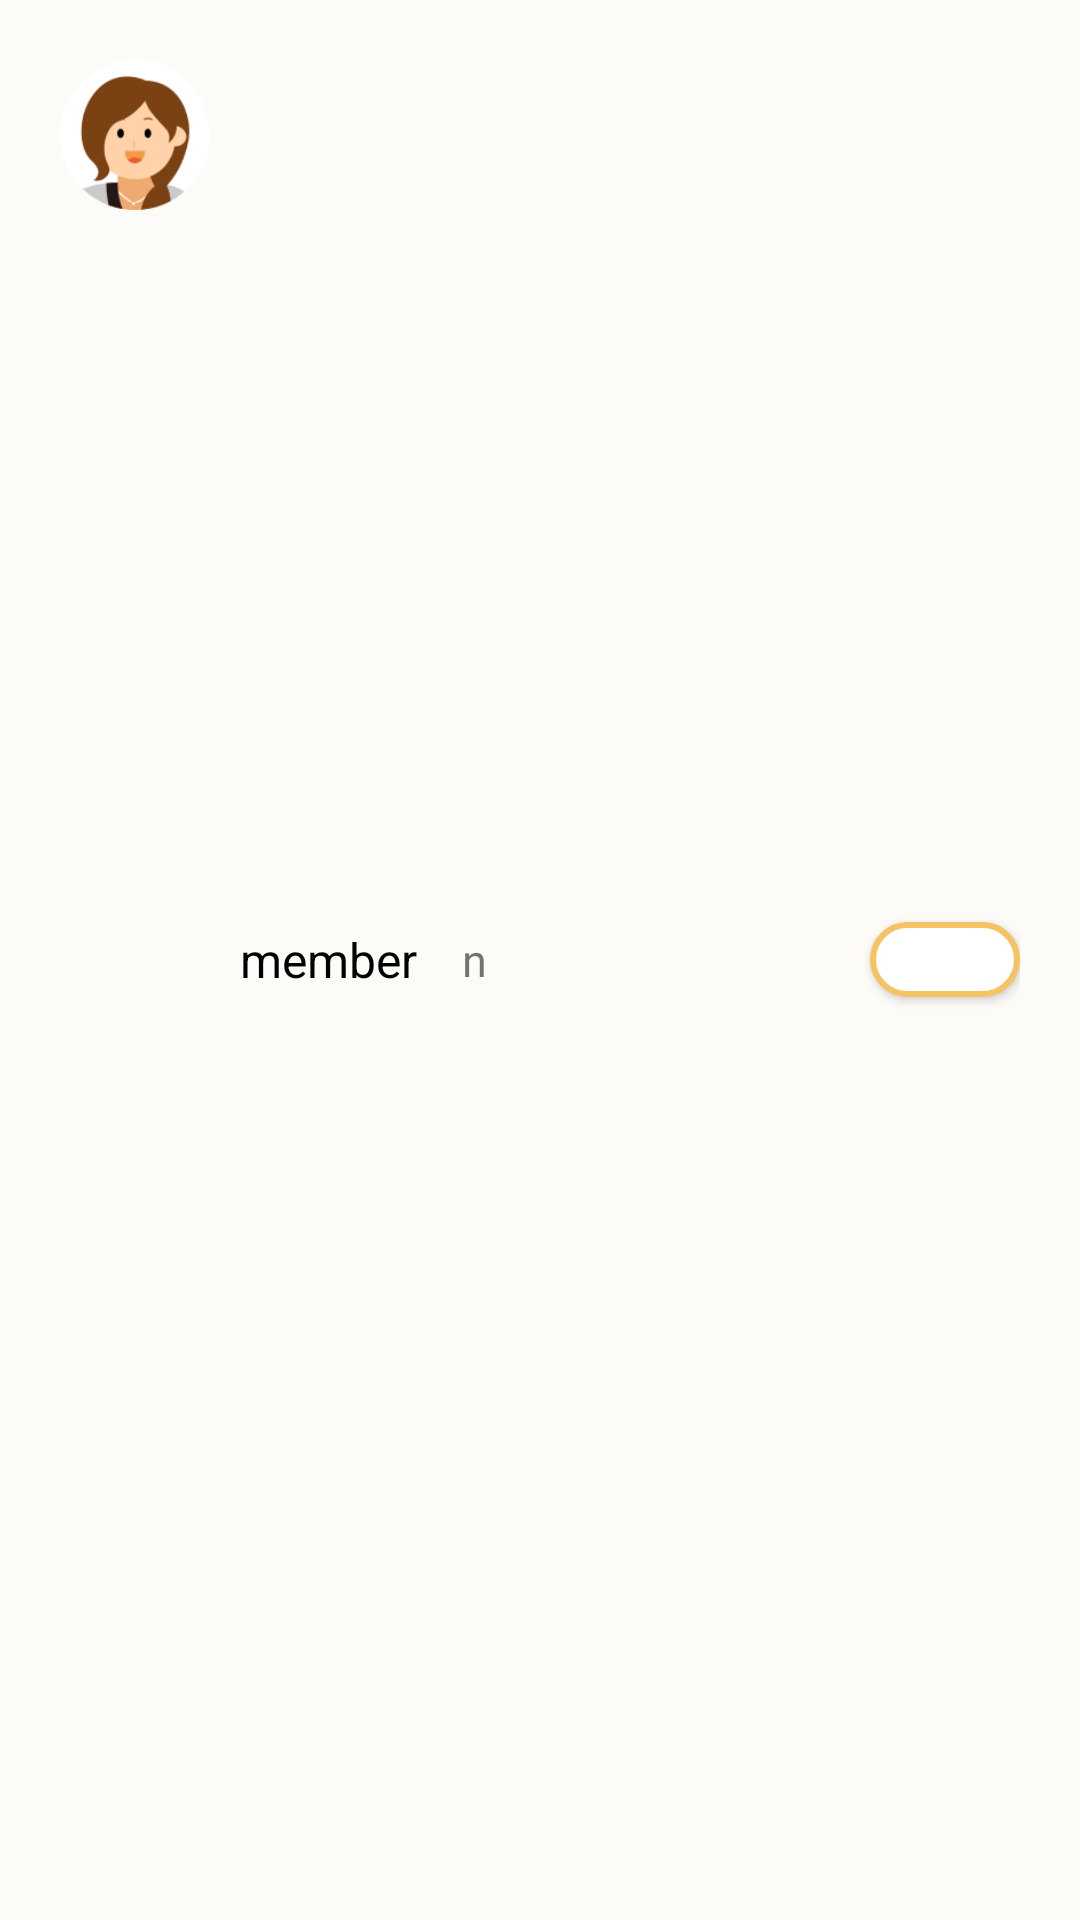

Named icons in this screenshot (1080px×1920px) and their bounding boxes, (x1, y1, x2, y2):
emoji mother: (81, 76, 190, 210)
